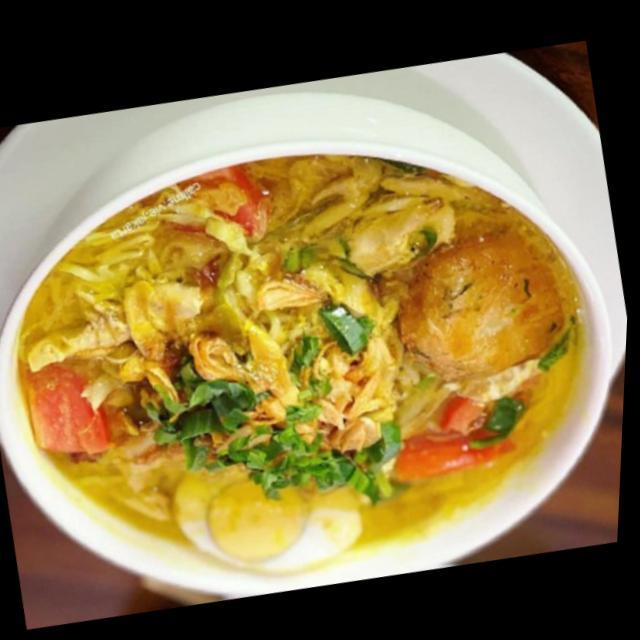Soto: (16, 151, 582, 570)
